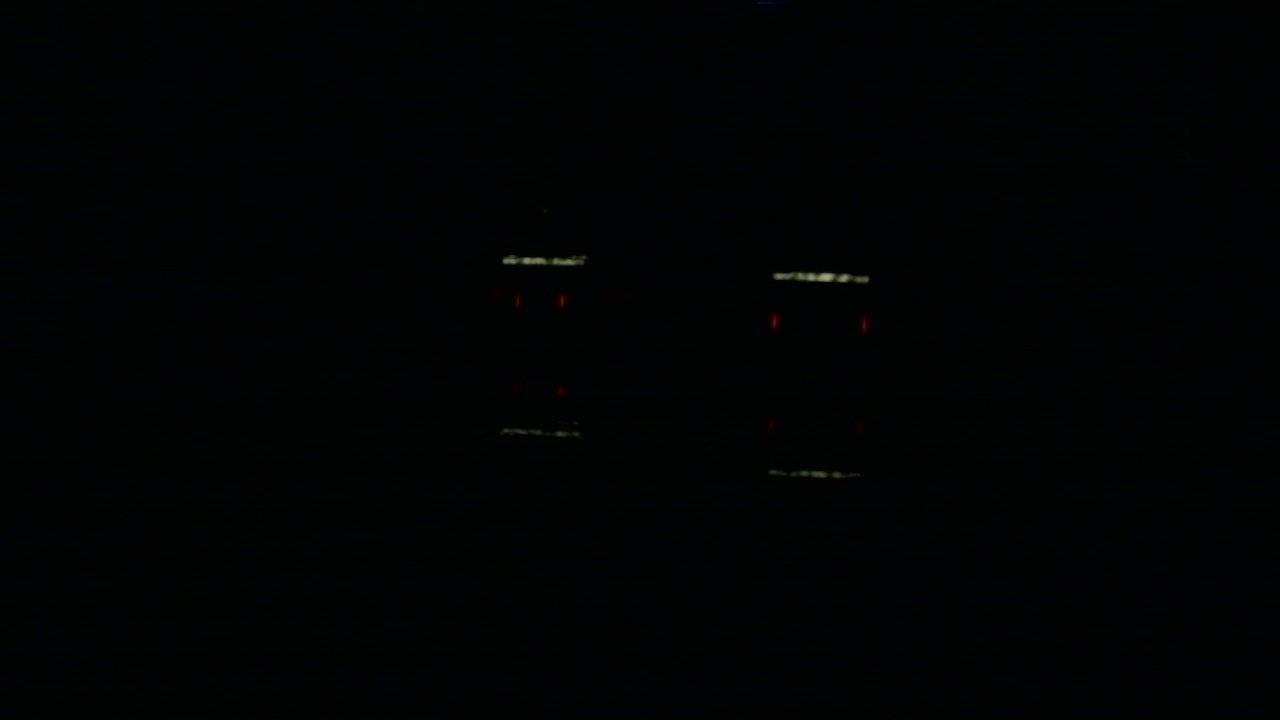lamp: (769, 311, 777, 331), (861, 312, 868, 332), (561, 293, 566, 303), (514, 294, 518, 304)
pair1: (515, 295, 565, 305)
pair2: (769, 312, 868, 332)
